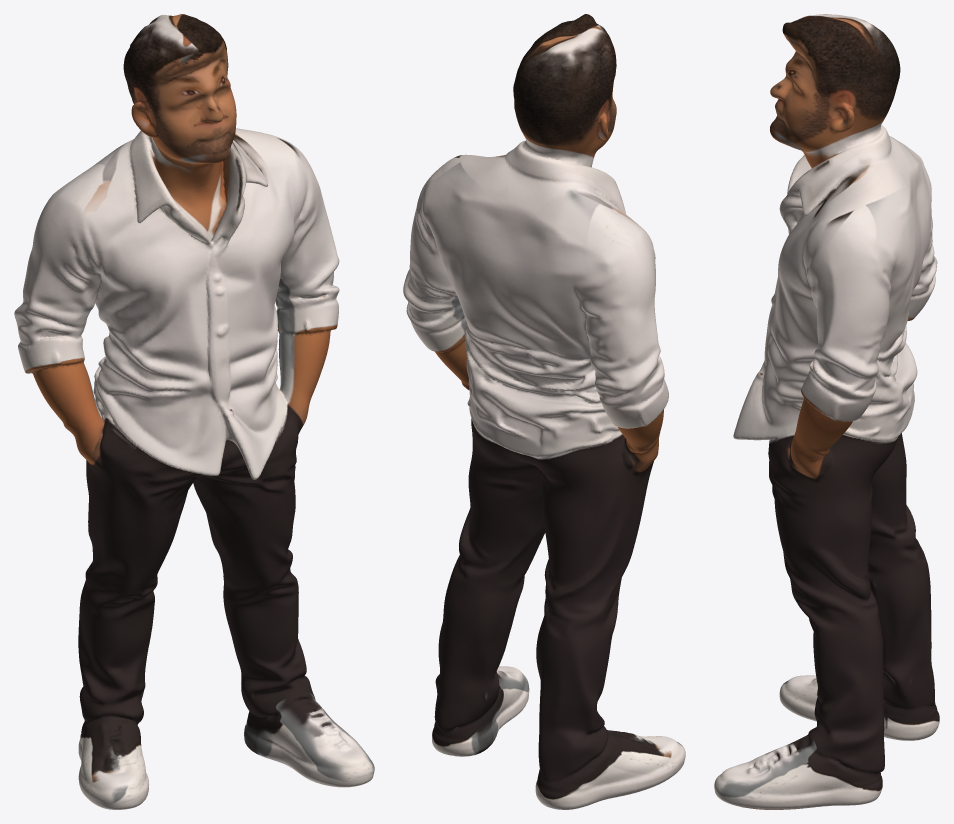
The model's file is adanud.glb.
3 renders of one model, left to right at view 1: azimuth 30°, elevation 25°; view 2: azimuth 150°, elevation 25°; view 3: azimuth 270°, elevation 25°, orthographic. The views are drawn at different scales.
Visible parts, largest first — view 1: tripo_node_63f169e3-86bf-4dc2-ab0b-09fc8031a0b6; view 2: tripo_node_63f169e3-86bf-4dc2-ab0b-09fc8031a0b6; view 3: tripo_node_63f169e3-86bf-4dc2-ab0b-09fc8031a0b6.
Boxes of the visible parts, <box> form: tripo_node_63f169e3-86bf-4dc2-ab0b-09fc8031a0b6: <box>14,14,374,809</box>; tripo_node_63f169e3-86bf-4dc2-ab0b-09fc8031a0b6: <box>403,14,685,809</box>; tripo_node_63f169e3-86bf-4dc2-ab0b-09fc8031a0b6: <box>714,14,939,809</box>.
Size of the model in its own units: 0.3954 by 1 by 0.2798.
1 material, 1 textured.
